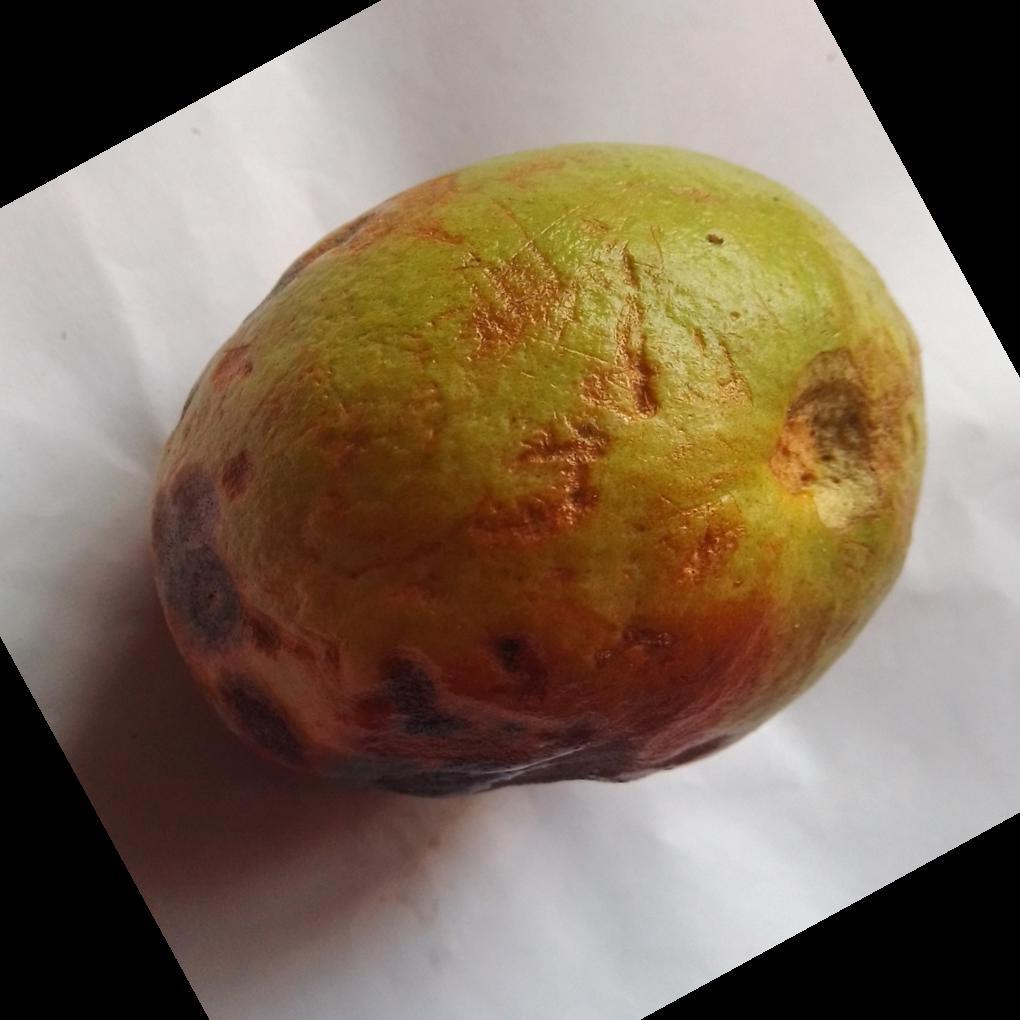FreshOrange: (146, 143, 929, 803)
